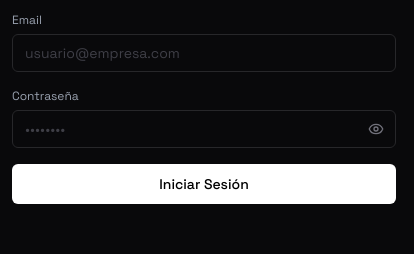
Test: LoginForm › valida el formato del email
In the field labelled "Email": (204, 53) [12,34,396,72], type "email-invalido"
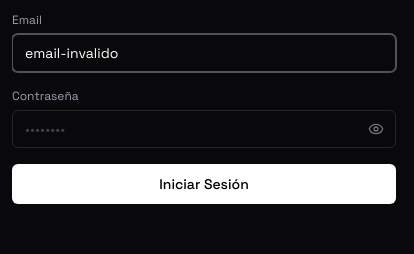
Click the button "Iniciar Sesión": (204, 184) [12,164,396,204]
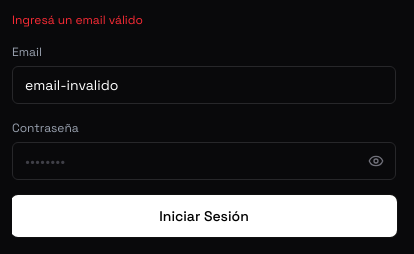
Check: the text "Ingresá un email válido" is shown, box [12,12,143,28]
